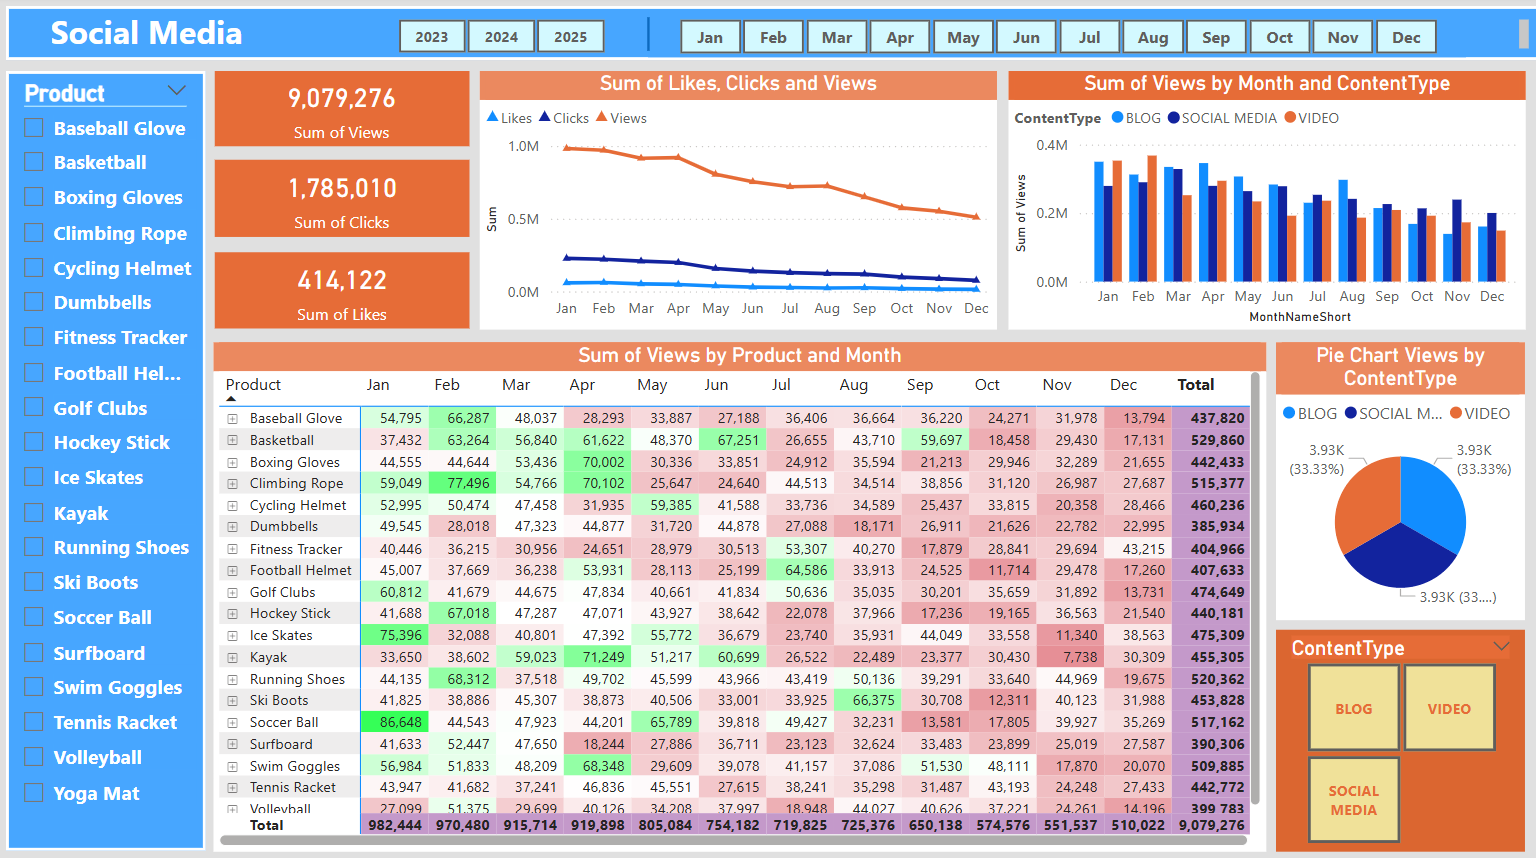

This screenshot's page, from the dashboard's own definition file:
{"tool":"powerbi","page":{"name":"Social media details","canvas":[1280,720],"ordinal":2},"visuals":[{"type":"lineChart","title":"Sum of Likes, Clicks and Views","fields":{"Category":["Calendar.MonthNameShort"],"Y":["Sum(fact_engagement_data.Likes)","Sum(fact_engagement_data.Clicks)","Sum(fact_engagement_data.Views)"]},"box":[400.8,62.1,429.1,214.5],"z":0},{"type":"clusteredColumnChart","title":"Sum of Views by Month and ContentType","fields":{"Category":["Calendar.MonthNameShort"],"Y":["Sum(fact_engagement_data.Views)"],"Series":["fact_engagement_data.ContentType"]},"box":[839,62.1,429.1,214.5],"z":1000},{"type":"pivotTable","title":"Sum of Views by Product and Month","fields":{"Columns":["Calendar.MonthNameShort"],"Rows":["dim_products.ProductName","fact_engagement_data.ContentType"],"Values":["Sum(fact_engagement_data.Views)"]},"box":[180.7,286.8,872.8,422.3],"z":2000},{"type":"slicer","fields":{"Values":["dim_products.ProductName"]},"box":[8,62.7,165.3,646.7],"z":3000},{"type":"textbox","box":[8.8,8.8,1271.2,45],"z":4000},{"type":"slicer","fields":{"Values":["Calendar.Year"]},"box":[307.9,12.1,220.7,36.4],"z":5000},{"type":"slicer","fields":{"Values":["Calendar.MonthNameShort"]},"box":[540.6,12.3,677.4,38.1],"z":6000},{"type":"shape","box":[487.8,17.8,105.6,27.8],"z":7000},{"type":"card","fields":{"Values":["Sum(fact_engagement_data.Views)"]},"box":[181.8,62.1,211.2,62.1],"z":8000},{"type":"card","fields":{"Values":["Sum(fact_engagement_data.Clicks)"]},"box":[181.8,135.5,211.2,64.4],"z":9000},{"type":"card","fields":{"Values":["Sum(fact_engagement_data.Likes)"]},"box":[181.8,212.3,211.2,63.2],"z":10000},{"type":"pieChart","title":"Pie Chart Views by ContentType","fields":{"Category":["fact_engagement_data.ContentType"],"Y":["CountNonNull(fact_customer_journey.CustomerID)"]},"box":[1061.4,286.8,206.6,230.3],"z":11000},{"type":"slicer","fields":{"Values":["fact_engagement_data.ContentType"]},"box":[1061.4,525.1,206.6,184.1],"z":12000}]}

Visuals, with their boxes in screenshot pixels (x1, y1, x2, y2), scaled from the page's 1280x720 canvas onto the 1536x858 screenshot:
"Sum of Likes, Clicks and Views" lineChart: [481,74,996,330]
"Sum of Views by Month and ContentType" clusteredColumnChart: [1007,74,1522,330]
"Sum of Views by Product and Month" pivotTable: [217,342,1264,845]
slicer - dim_products.ProductName: [10,75,208,845]
textbox: [11,10,1535,64]
slicer - Calendar.Year: [369,14,634,58]
slicer - Calendar.MonthNameShort: [649,15,1462,60]
shape: [585,21,712,54]
card - Sum(fact_engagement_data.Views): [218,74,472,148]
card - Sum(fact_engagement_data.Clicks): [218,161,472,238]
card - Sum(fact_engagement_data.Likes): [218,253,472,328]
"Pie Chart Views by ContentType" pieChart: [1274,342,1522,616]
slicer - fact_engagement_data.ContentType: [1274,626,1522,845]
